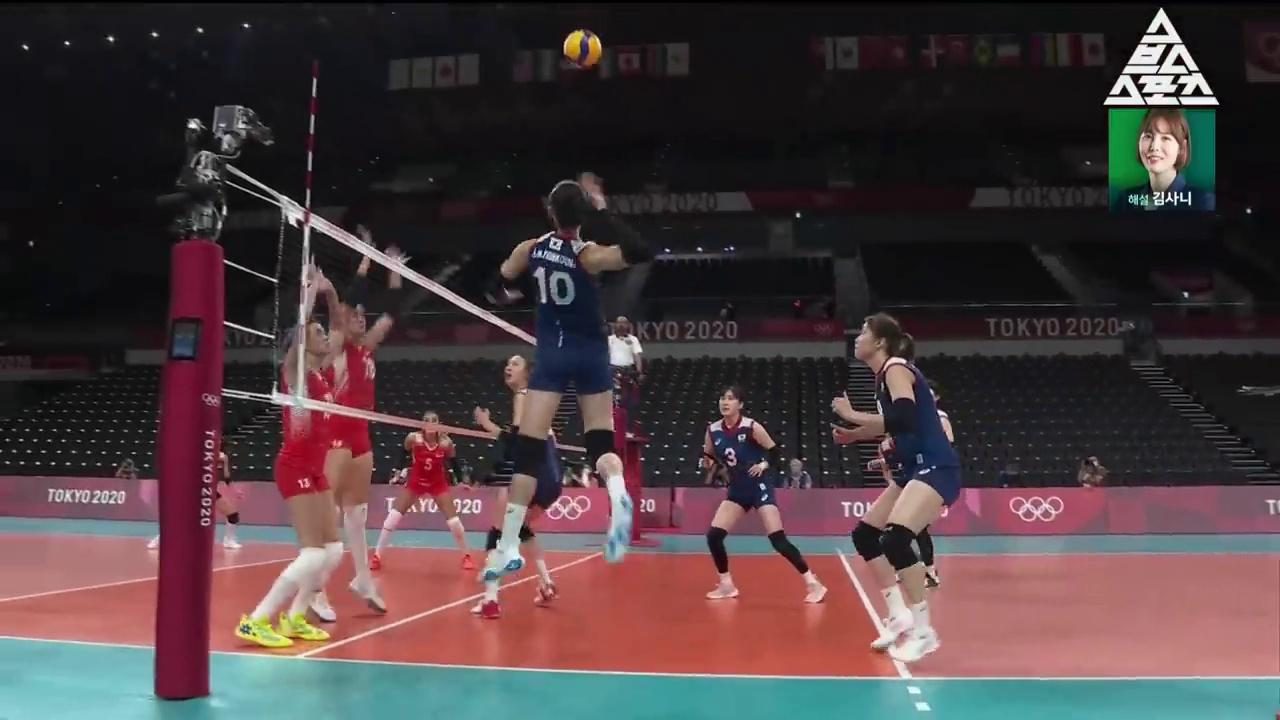ball: (564, 30, 601, 68)
player: (480, 174, 654, 582), (831, 313, 961, 660), (304, 227, 413, 618), (237, 253, 343, 649), (705, 385, 827, 602), (471, 354, 561, 618), (369, 410, 476, 568)
referee: (608, 317, 645, 439)
